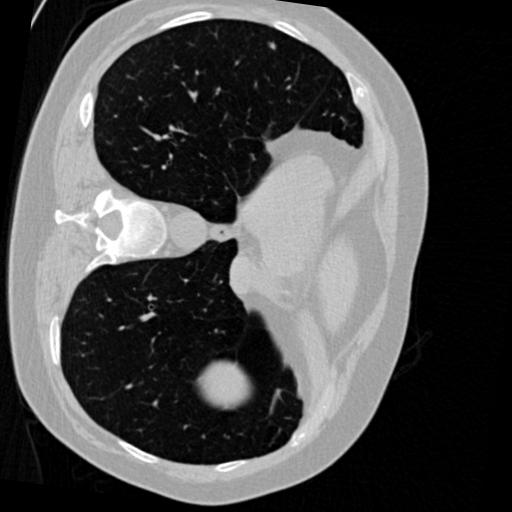nodule: (267, 42, 281, 56)
